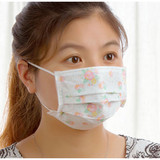face_mask: (38, 15, 126, 127)
